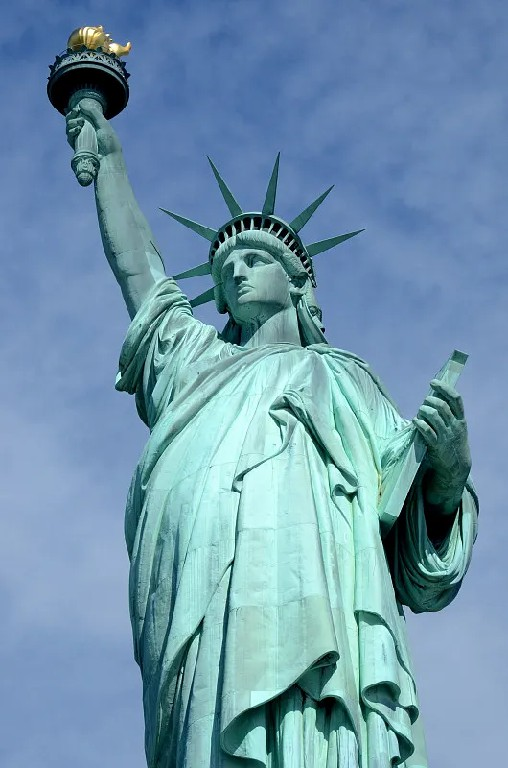SL: (47, 24, 482, 768)
